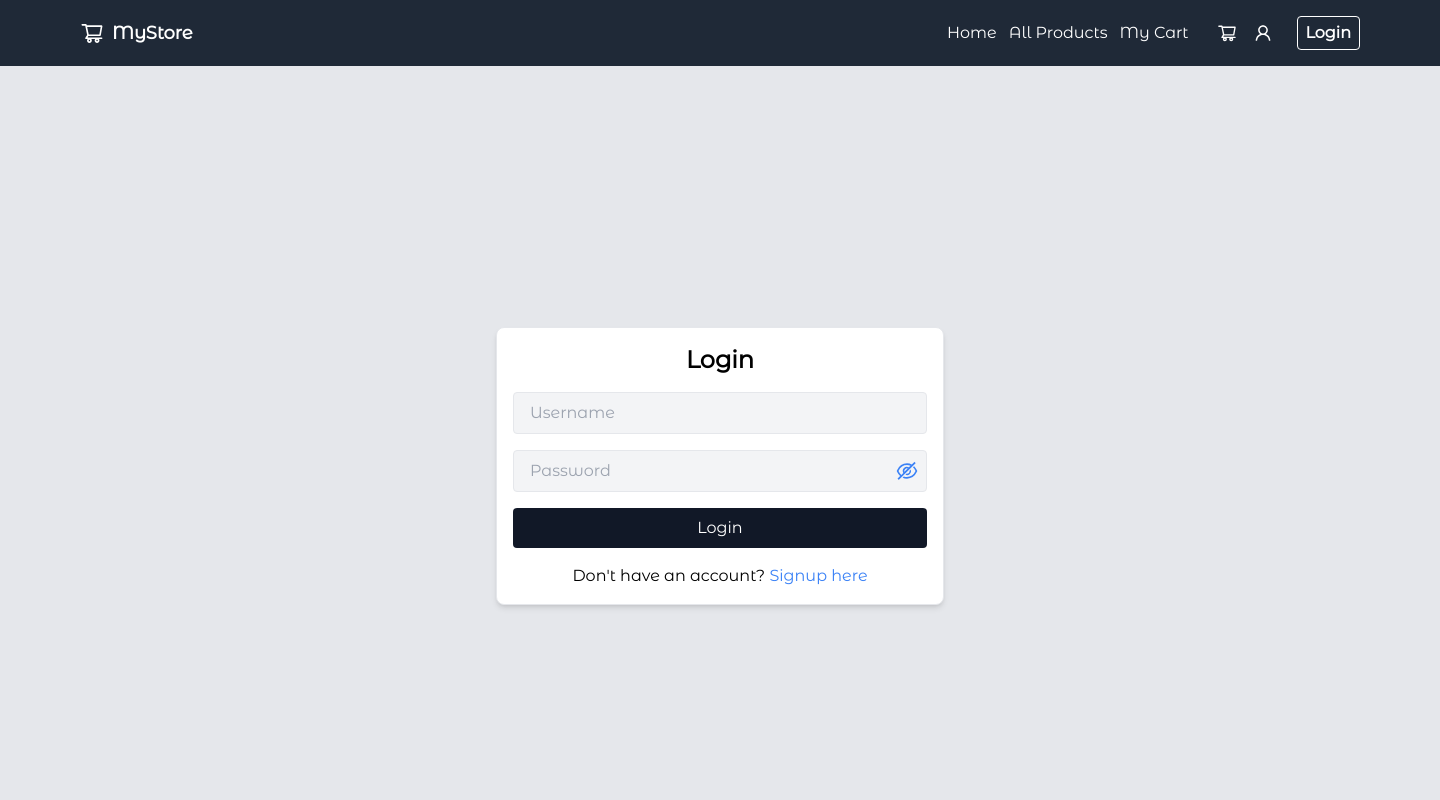
it: login › attempt to login with no credentials
Click the submit button: [720, 528] box [513,508,927,548]
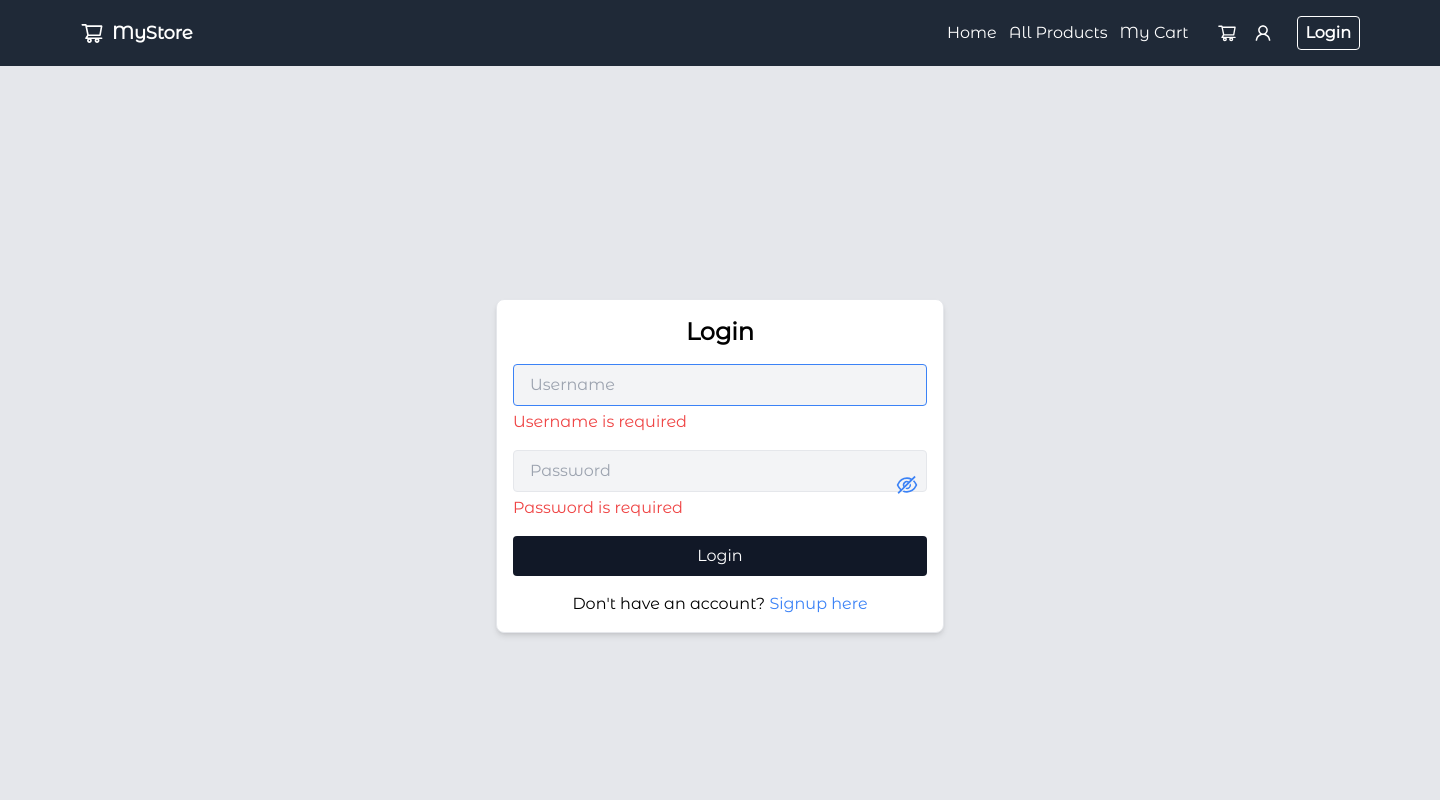
Now the text "Username is required" is shown, box [513,412,687,431]
Now the text "Password is required" is shown, box [513,498,683,517]
